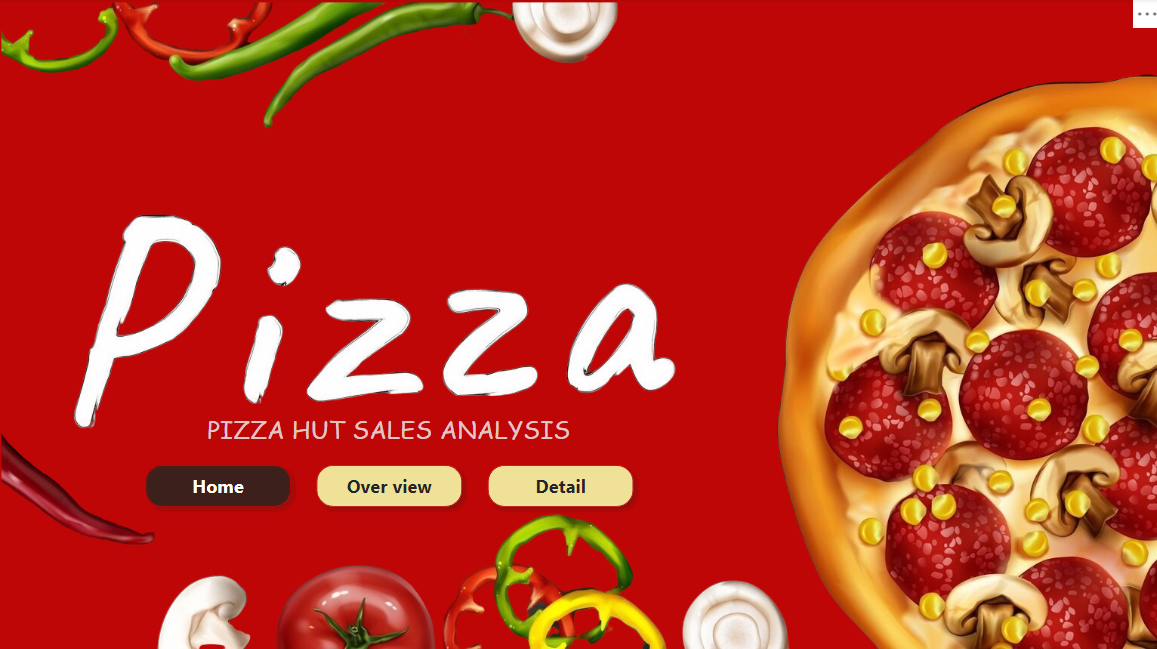

Layout of this report page (visuals, bound fields, positions):
{"tool":"powerbi","page":{"name":"Home","canvas":[1280,720],"ordinal":0},"visuals":[{"type":"shape","box":[0,0,1280.3,720.4],"z":0},{"type":"image","box":[0,0,1280.3,720.4],"z":1000},{"type":"textbox","title":"PIZZA HUT SALES ANALYSIS","box":[219.6,454.2,421.3,70],"z":2000},{"type":"pageNavigator","box":[153.7,503.6,555.7,64.5],"z":3000}]}

Visuals, with their boxes in screenshot pixels (x1, y1, x2, y2), scaled from the page's 1280x720 canvas onto the 1157x649 screenshot:
shape: (x1=0, y1=0, x2=1156, y2=648)
image: (x1=0, y1=0, x2=1156, y2=648)
"PIZZA HUT SALES ANALYSIS" textbox: (x1=198, y1=409, x2=579, y2=473)
pageNavigator: (x1=139, y1=454, x2=641, y2=512)
